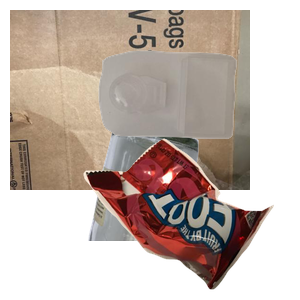cardboard: (10, 10, 250, 190)
glass: (86, 120, 277, 300)
plastic: (96, 48, 300, 179)
trash: (81, 136, 300, 300)
